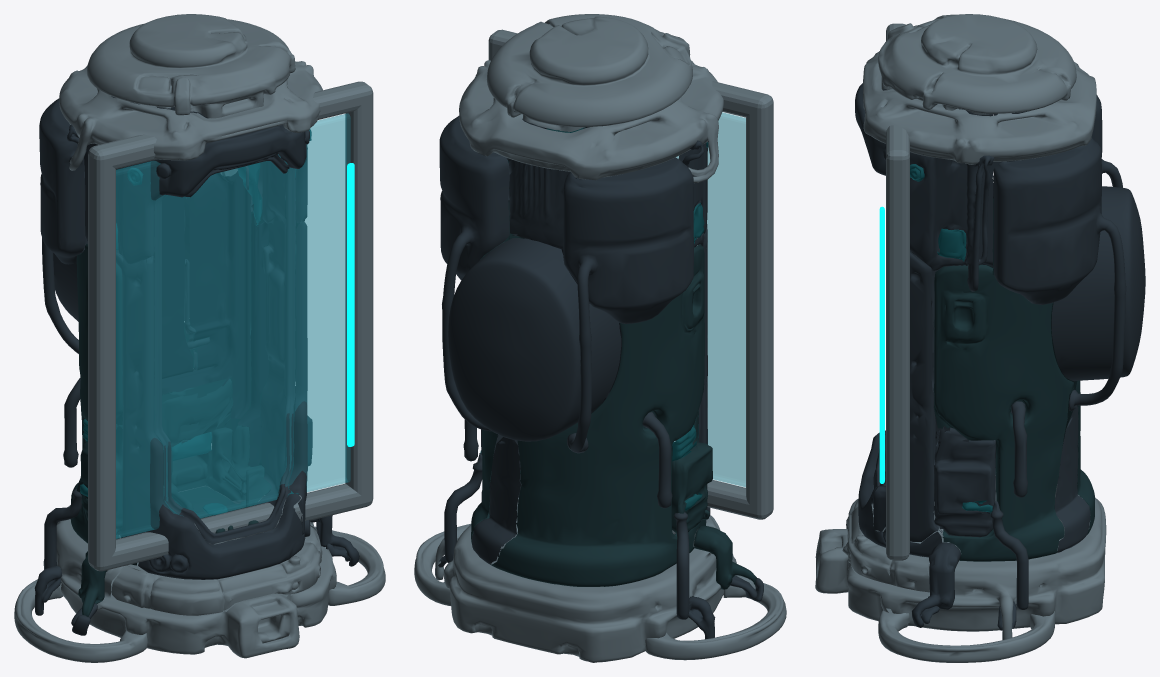
File: sector11-wake-capsule-v2.glb
The picture shows the model from 3 angles, left to right: view 1: azimuth 30°, elevation 25°; view 2: azimuth 150°, elevation 25°; view 3: azimuth 270°, elevation 25°; orthographic projection. The views are drawn at different scales.
Visible parts, largest first — view 1: Sector11_Capsule_Shell, Door_Glass, Door_Frame_Left, Door_Frame_Right, Door_Frame_Bottom, Door_Frame_Top, Door_Signal; view 2: Sector11_Capsule_Shell, Door_Glass, Door_Frame_Left, Door_Frame_Top, Door_Frame_Bottom; view 3: Sector11_Capsule_Shell, Door_Frame_Right, Door_Signal, Door_Frame_Top.
Boxes of the visible parts, <box> form: Sector11_Capsule_Shell: <box>14,14,385,662</box>; Door_Glass: <box>116,113,350,538</box>; Door_Frame_Left: <box>88,158,115,561</box>; Door_Frame_Right: <box>345,98,373,499</box>; Door_Frame_Bottom: <box>88,483,373,571</box>; Door_Frame_Top: <box>88,81,373,169</box>; Door_Signal: <box>347,163,354,446</box>; Sector11_Capsule_Shell: <box>414,14,786,662</box>; Door_Glass: <box>674,112,745,487</box>; Door_Frame_Left: <box>746,108,773,510</box>; Door_Frame_Top: <box>488,29,773,117</box>; Door_Frame_Bottom: <box>707,479,773,519</box>; Sector11_Capsule_Shell: <box>815,14,1145,662</box>; Door_Frame_Right: <box>886,161,909,551</box>; Door_Signal: <box>879,206,884,483</box>; Door_Frame_Top: <box>886,23,909,167</box>.
Size of the model in its own units: 1.78 by 2.8 by 1.52.
